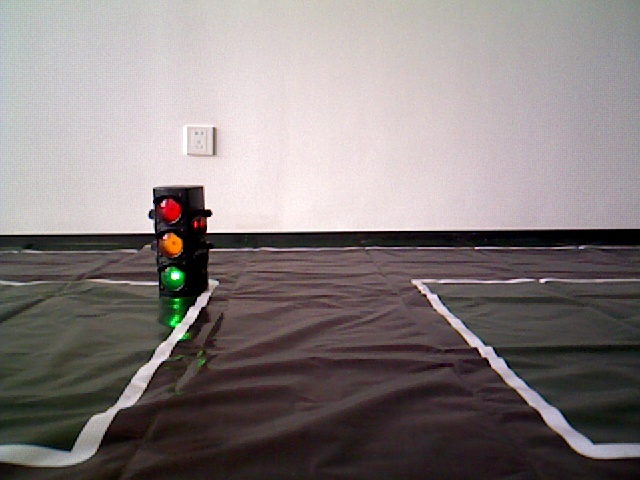green: (152, 189, 207, 290)
